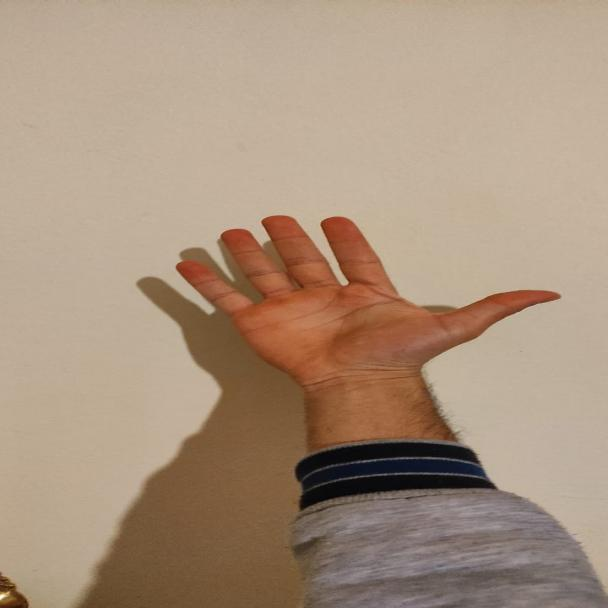five: (156, 210, 574, 366)
